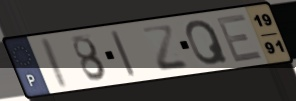8: (71, 35, 108, 83)
E: (213, 11, 265, 64)
I: (40, 36, 72, 91), (109, 29, 139, 79)
Q: (184, 19, 231, 68)
Z: (139, 24, 192, 74)
